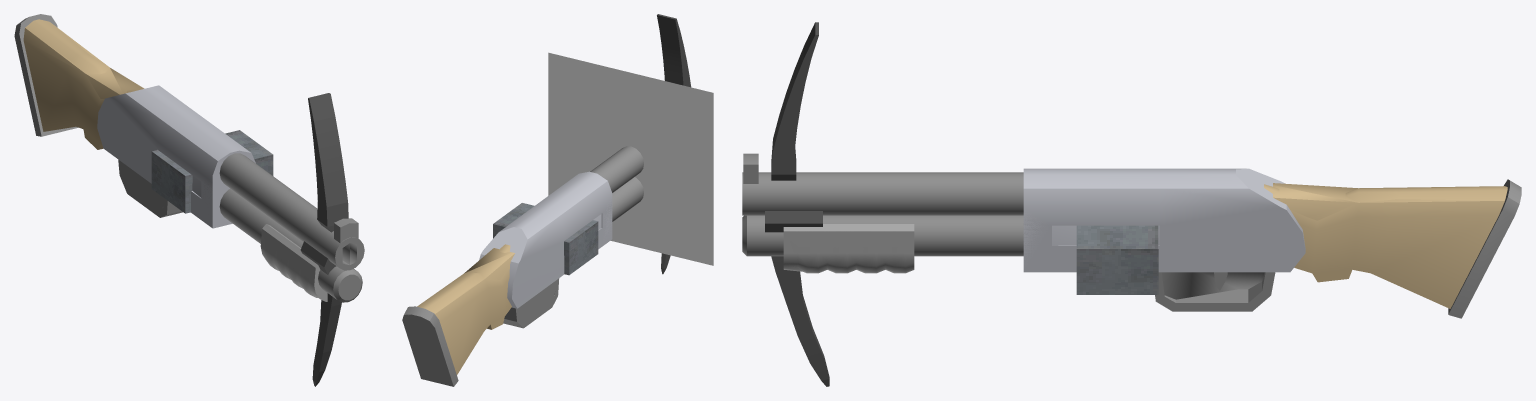
File: item_arena_shotgun.glb
3 views of the same model, side by side, from view 1: azimuth 30°, elevation 25°; view 2: azimuth 150°, elevation 25°; view 3: azimuth 270°, elevation 25° (orthographic). The views are drawn at different scales.
Visible parts, largest first — view 1: Shotgun_submesh_2, Shotgun_submesh_3, Shotgun_submesh_0, Pickaxe_col_head, Cube, Shotgun_submesh_1; view 2: Quad, Shotgun_submesh_3, Shotgun_submesh_2, Shotgun_submesh_0, Cube, Pickaxe_col_head; view 3: Shotgun_submesh_2, Shotgun_submesh_3, Shotgun_submesh_0, Shotgun_submesh_1, Pickaxe_col_head, Cube.
Boxes of the visible parts, box(x1,y1,x2,y2) form: Shotgun_submesh_2: box(14, 14, 364, 302); Shotgun_submesh_3: box(97, 85, 255, 228); Shotgun_submesh_0: box(23, 19, 144, 149); Pickaxe_col_head: box(300, 93, 348, 386); Cube: box(151, 130, 273, 213); Shotgun_submesh_1: box(260, 224, 327, 301); Quad: box(548, 52, 713, 265); Shotgun_submesh_3: box(479, 171, 612, 308); Shotgun_submesh_2: box(402, 146, 643, 386); Shotgun_submesh_0: box(417, 244, 514, 374); Cube: box(493, 203, 598, 275); Pickaxe_col_head: box(657, 14, 691, 274); Shotgun_submesh_2: box(742, 153, 1521, 318); Shotgun_submesh_3: box(1023, 168, 1305, 272); Shotgun_submesh_0: box(1264, 183, 1507, 308); Shotgun_submesh_1: box(783, 224, 914, 273); Pickaxe_col_head: box(765, 22, 829, 386); Cube: box(1076, 225, 1158, 294).
Size of the model in its own units: 0.2135 by 0.3145 by 0.6202.
7 materials, 1 textured.
